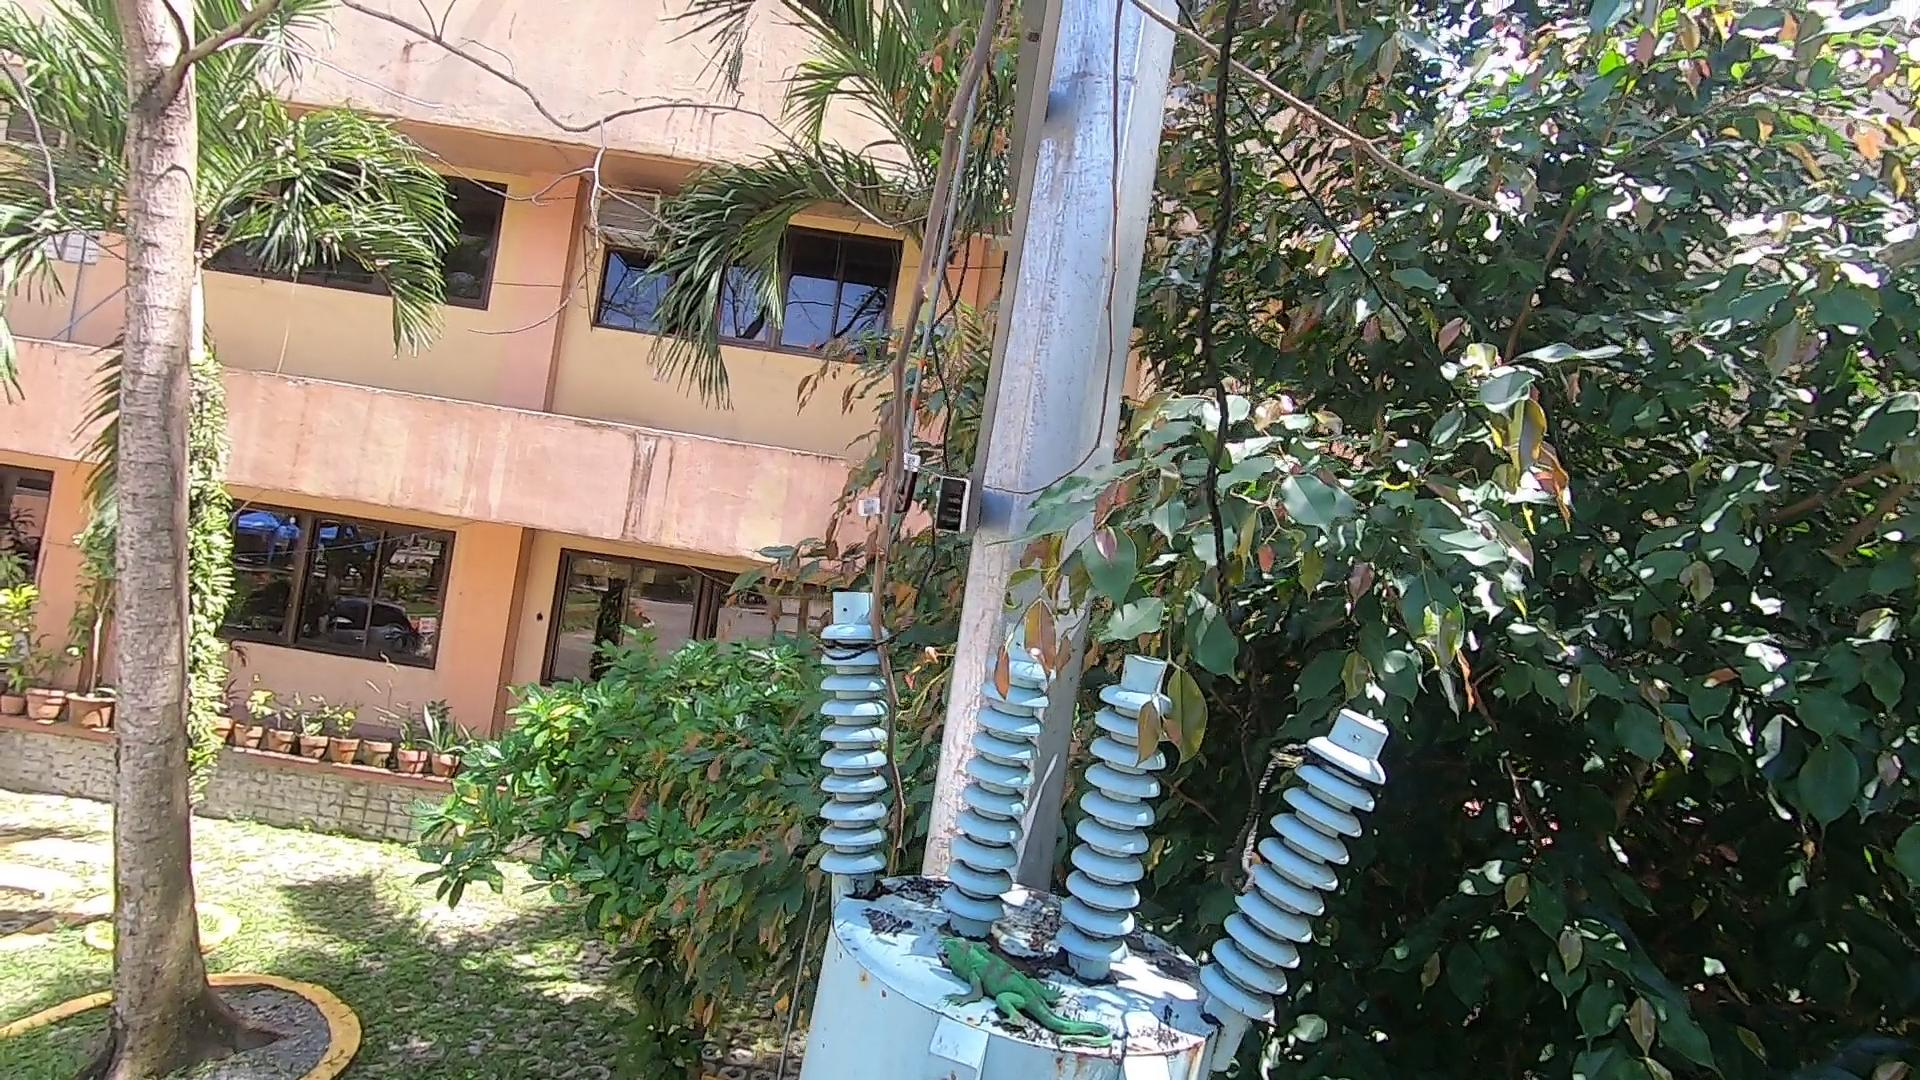branch with leaves: (990, 493, 1269, 771)
leaf: (965, 928, 1072, 978), (1133, 928, 1197, 993), (851, 873, 894, 903)
tree branch: (861, 3, 1513, 876)
